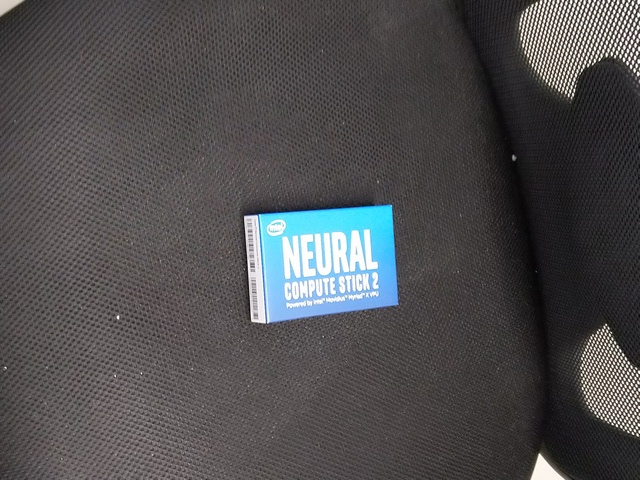box: (243, 204, 400, 325)
